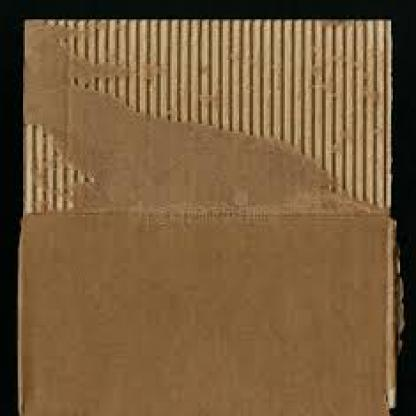CARDBOARD: (14, 16, 404, 414)
